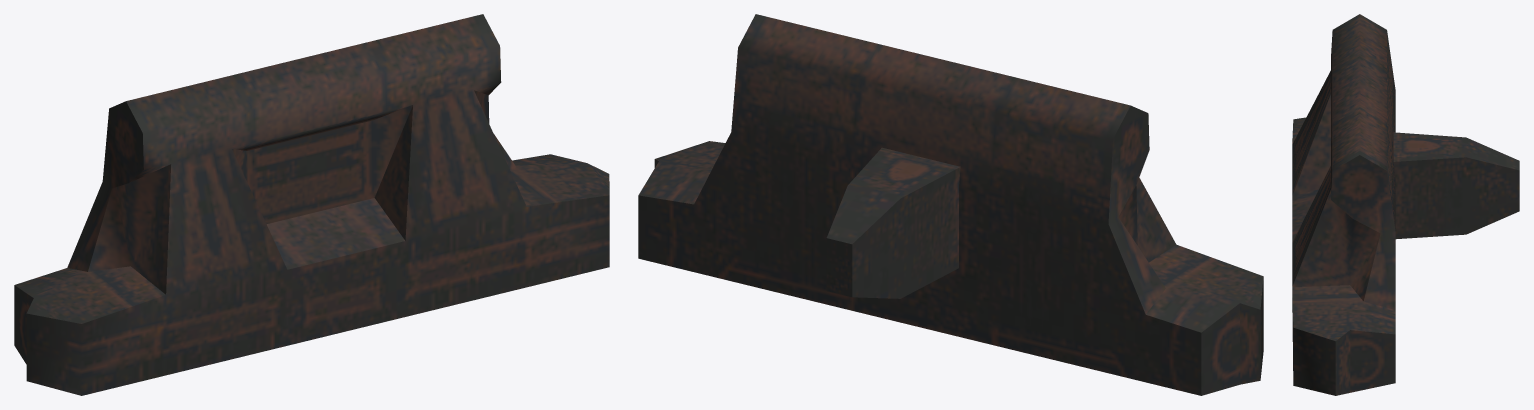
File: track1_segment1.glb
3 renders of one model, left to right at view 1: azimuth 30°, elevation 25°; view 2: azimuth 150°, elevation 25°; view 3: azimuth 270°, elevation 25°, orthographic. The views are drawn at different scales.
Parts seen in each view (by area): view 1: set_0_group_0; view 2: set_0_group_0; view 3: set_0_group_0.
Part boxes in pixels (<box>): set_0_group_0: <box>14,14,609,395</box>; set_0_group_0: <box>638,14,1263,395</box>; set_0_group_0: <box>1292,14,1519,395</box>.
Bounding box in the file's own units: 0.3552 × 0.1441 × 0.1493.
1 material, 1 textured.
